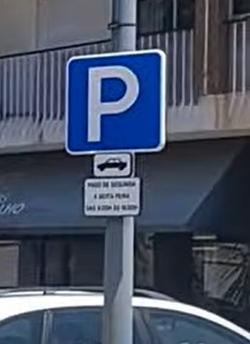Estacionamento autorizado: (65, 47, 172, 152)
